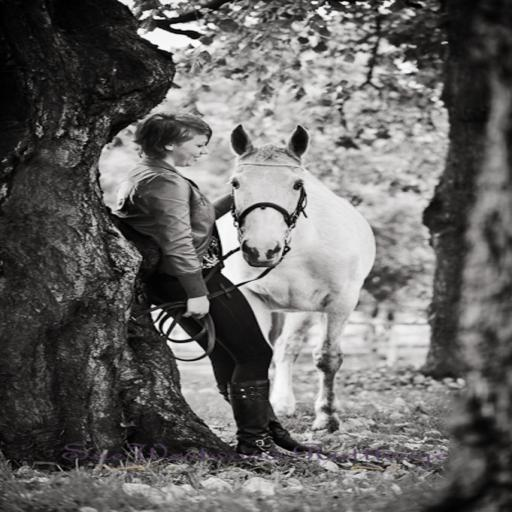horse: (216, 124, 378, 438)
